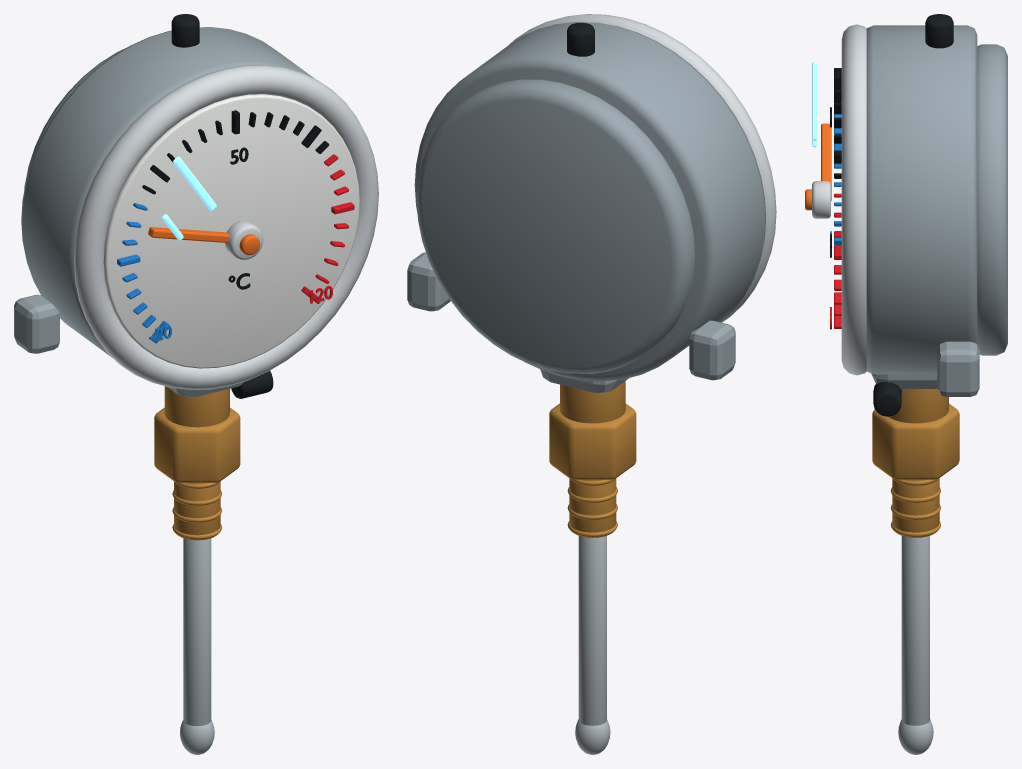
File: temperature-gauge-bimetal-dn100-generic-v1.glb
3 renders of one model, left to right at view 1: azimuth 30°, elevation 25°; view 2: azimuth 150°, elevation 25°; view 3: azimuth 270°, elevation 25°, orthographic.
Parts seen in each view (by area): view 1: THERMOMETER_DIAL_FACE, THERMOMETER_FRONT_BEZEL, THERMOMETER_CASE_MAIN, IMMERSION_STEM, PROCESS_HEX_ADAPTER, CASE_SIDE_TAB_L, THERMOMETER_SWIVEL_NECK, PROCESS_THREAD_G1_2, SENSOR_BULB_TIP, CASE_VENT_PLUG, TEMPERATURE_NEEDLE_HUB, TEMPERATURE_NEEDLE (+2 smaller); view 2: THERMOMETER_REAR_CAP, THERMOMETER_CASE_MAIN, IMMERSION_STEM, PROCESS_HEX_ADAPTER, THERMOMETER_FRONT_BEZEL, CASE_SIDE_TAB_L, THERMOMETER_SWIVEL_NECK, PROCESS_THREAD_G1_2, CASE_SIDE_TAB_R, SENSOR_BULB_TIP, CASE_VENT_PLUG, CASE_BOTTOM_BOSS; view 3: THERMOMETER_CASE_MAIN, THERMOMETER_REAR_CAP, THERMOMETER_FRONT_BEZEL, IMMERSION_STEM, PROCESS_HEX_ADAPTER, CASE_SIDE_TAB_R, PROCESS_THREAD_G1_2, THERMOMETER_SWIVEL_NECK, SENSOR_BULB_TIP, CASE_VENT_PLUG, SWIVEL_LOCK_SCREW, CASE_BOTTOM_BOSS (+3 smaller).
Part boxes in pixels (x1=…): THERMOMETER_DIAL_FACE: x1=103, y1=94, x2=359, y2=368; THERMOMETER_FRONT_BEZEL: x1=74, y1=65, x2=378, y2=389; THERMOMETER_CASE_MAIN: x1=21, y1=27, x2=314, y2=357; IMMERSION_STEM: x1=183, y1=538, x2=211, y2=726; PROCESS_HEX_ADAPTER: x1=154, y1=407, x2=240, y2=482; CASE_SIDE_TAB_L: x1=14, y1=294, x2=59, y2=353; THERMOMETER_SWIVEL_NECK: x1=164, y1=386, x2=229, y2=427; PROCESS_THREAD_G1_2: x1=174, y1=481, x2=220, y2=540; SENSOR_BULB_TIP: x1=180, y1=720, x2=214, y2=754; CASE_VENT_PLUG: x1=171, y1=14, x2=199, y2=47; TEMPERATURE_NEEDLE_HUB: x1=224, y1=221, x2=263, y2=259; TEMPERATURE_NEEDLE: x1=148, y1=227, x2=229, y2=242; THERMOMETER_REAR_CAP: x1=416, y1=79, x2=695, y2=373; THERMOMETER_CASE_MAIN: x1=414, y1=22, x2=766, y2=381; IMMERSION_STEM: x1=578, y1=535, x2=606, y2=725; PROCESS_HEX_ADAPTER: x1=549, y1=403, x2=636, y2=479; THERMOMETER_FRONT_BEZEL: x1=508, y1=14, x2=776, y2=322; CASE_SIDE_TAB_L: x1=689, y1=320, x2=735, y2=380; THERMOMETER_SWIVEL_NECK: x1=560, y1=381, x2=625, y2=423; PROCESS_THREAD_G1_2: x1=569, y1=478, x2=616, y2=537; CASE_SIDE_TAB_R: x1=407, y1=252, x2=450, y2=311; SENSOR_BULB_TIP: x1=575, y1=719, x2=610, y2=754; CASE_VENT_PLUG: x1=567, y1=22, x2=594, y2=56; CASE_BOTTOM_BOSS: x1=540, y1=369, x2=628, y2=393; THERMOMETER_CASE_MAIN: x1=866, y1=25, x2=977, y2=374; THERMOMETER_REAR_CAP: x1=977, y1=44, x2=1007, y2=355; THERMOMETER_FRONT_BEZEL: x1=841, y1=24, x2=866, y2=375; IMMERSION_STEM: x1=901, y1=535, x2=929, y2=725; PROCESS_HEX_ADAPTER: x1=872, y1=403, x2=959, y2=479; CASE_SIDE_TAB_R: x1=937, y1=341, x2=979, y2=396; PROCESS_THREAD_G1_2: x1=892, y1=478, x2=939, y2=537; THERMOMETER_SWIVEL_NECK: x1=888, y1=389, x2=948, y2=423; SENSOR_BULB_TIP: x1=898, y1=719, x2=933, y2=754; CASE_VENT_PLUG: x1=925, y1=14, x2=953, y2=48; SWIVEL_LOCK_SCREW: x1=873, y1=382, x2=901, y2=416; CASE_BOTTOM_BOSS: x1=871, y1=373, x2=937, y2=388.
Bounding box in the file's own units: 0.154 × 0.344 × 0.086.
